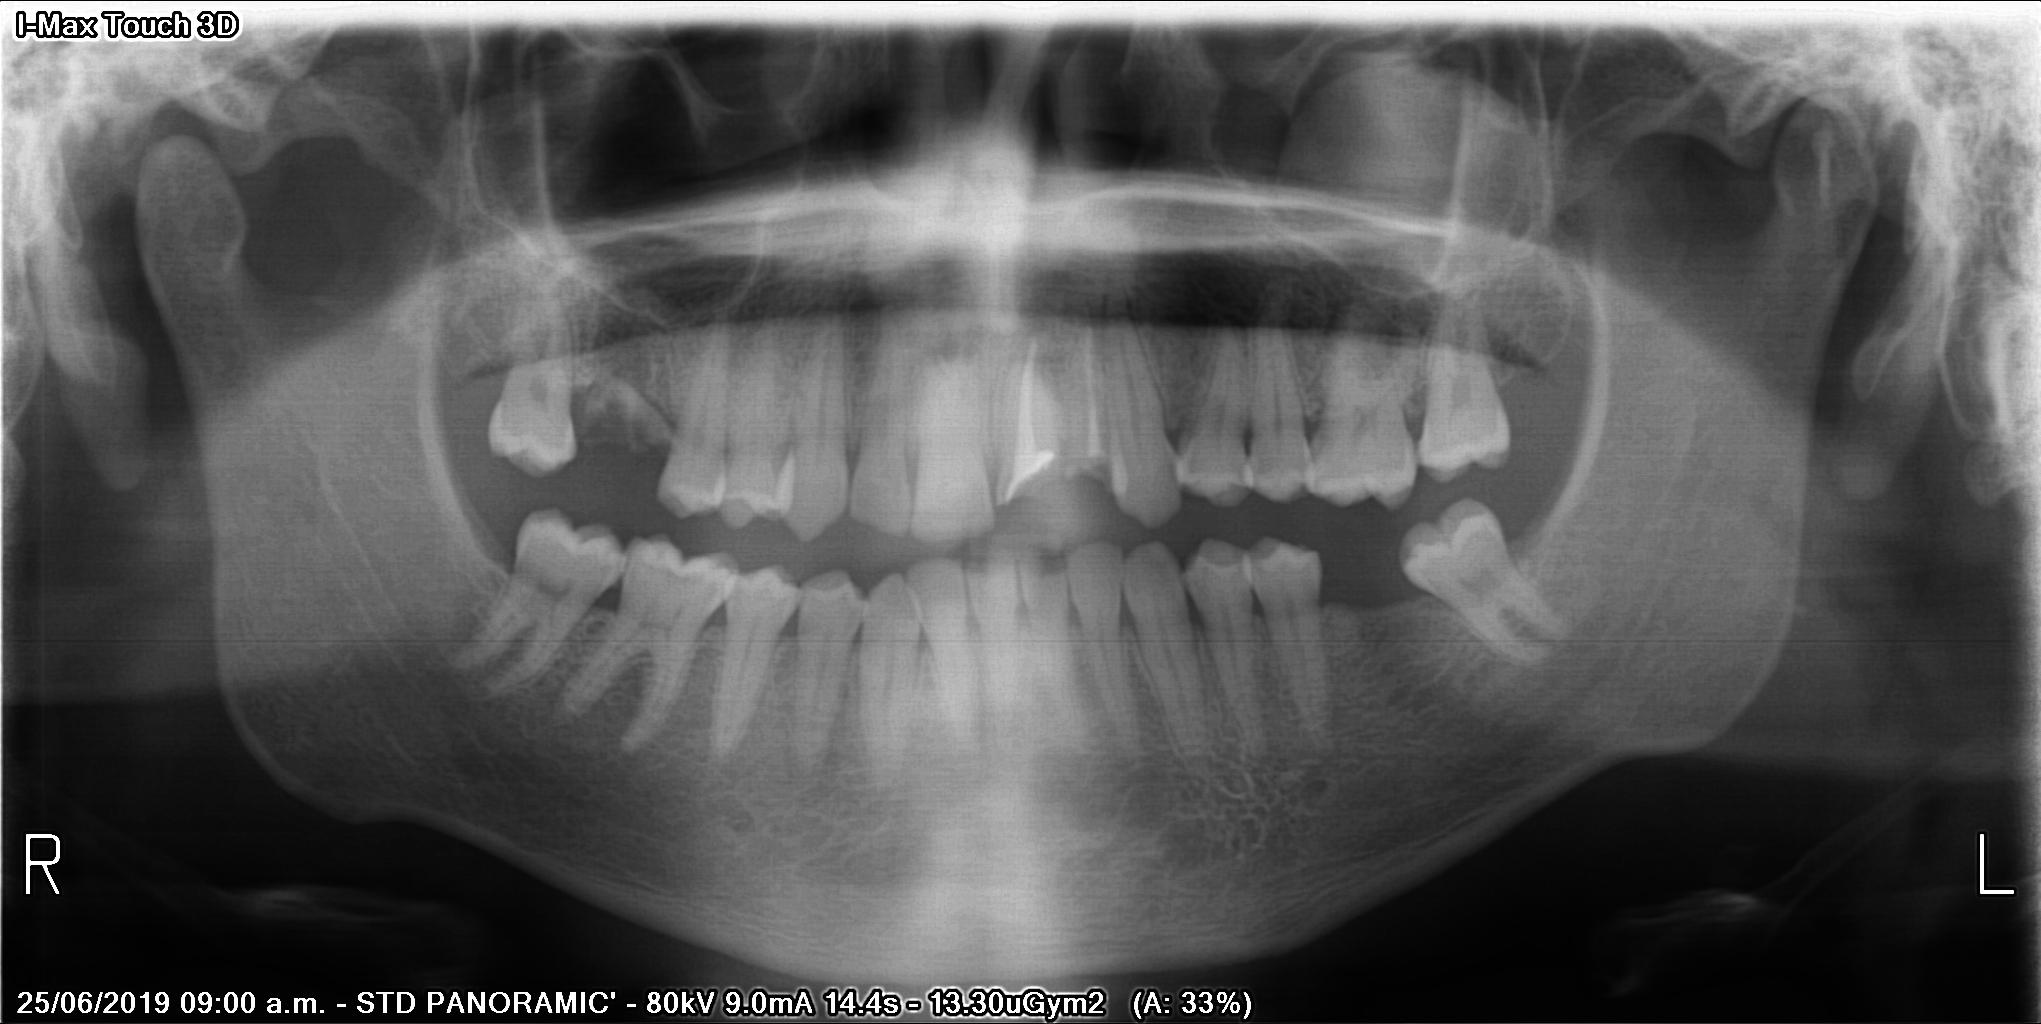Çürük Bölgesi: (1007, 457, 1055, 509), (1067, 457, 1109, 492)
